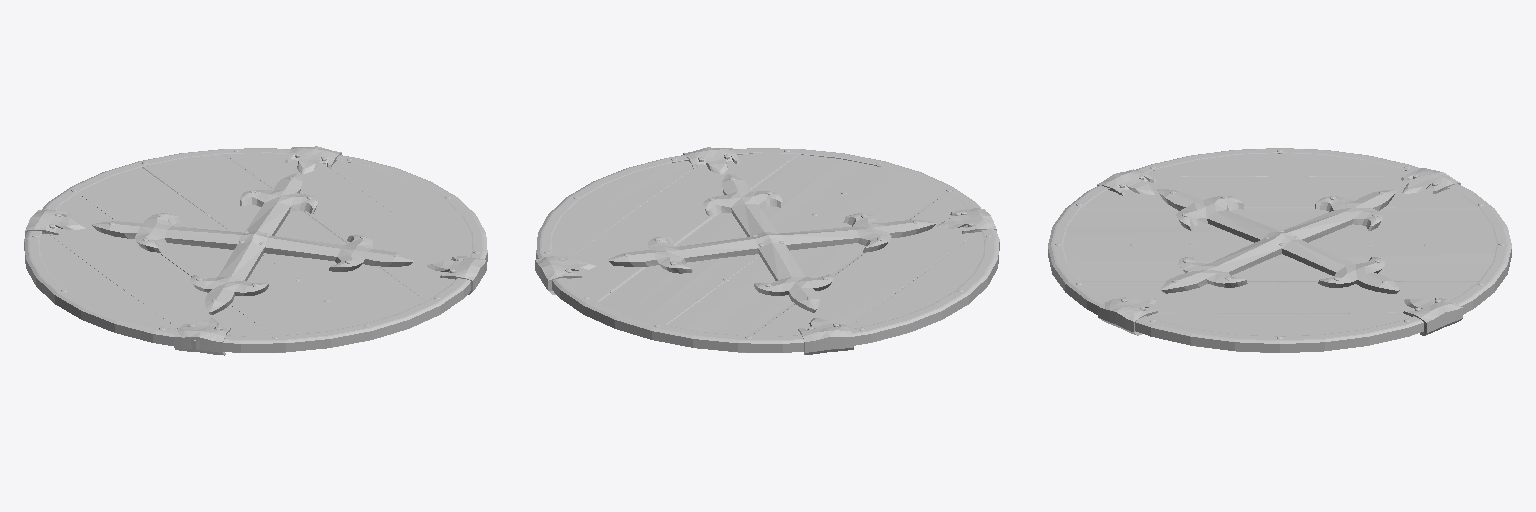
Rendered from shield-new.obj.
The picture shows the model from 3 angles: view 1: azimuth 30°, elevation 25°; view 2: azimuth 150°, elevation 25°; view 3: azimuth 270°, elevation 25°; orthographic projection.
Parts seen in each view (by area): view 1: Circle.002_Circle.001; view 2: Circle.002_Circle.001; view 3: Circle.002_Circle.001.
Part boxes in pixels (left/top/right/bottom): Circle.002_Circle.001: left=24, top=146, right=487, bottom=355; Circle.002_Circle.001: left=535, top=147, right=999, bottom=354; Circle.002_Circle.001: left=1048, top=148, right=1511, bottom=352.
Bounding box in the file's own units: 2.05 × 0.2152 × 2.05.